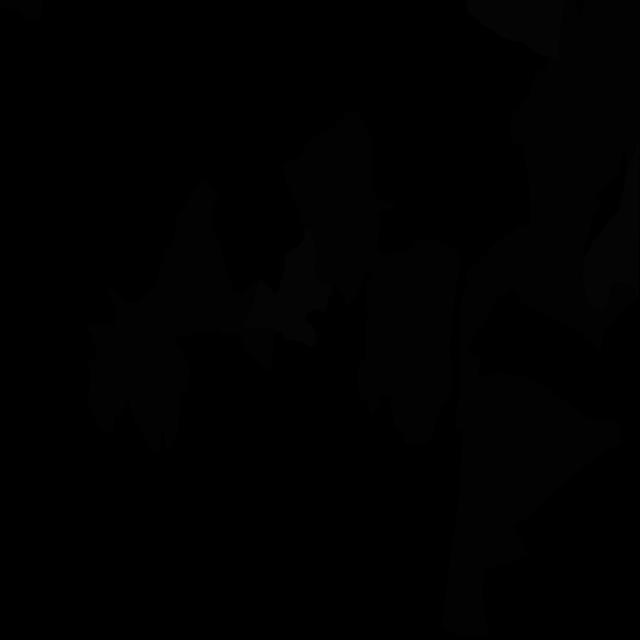cardboard: (86, 179, 274, 453), (442, 371, 621, 639), (510, 22, 639, 353), (454, 224, 567, 433), (280, 112, 396, 308), (356, 239, 461, 446), (561, 0, 640, 161), (562, 0, 579, 20)
soft_plastic: (241, 224, 332, 348), (582, 135, 640, 313), (466, 0, 564, 61)
